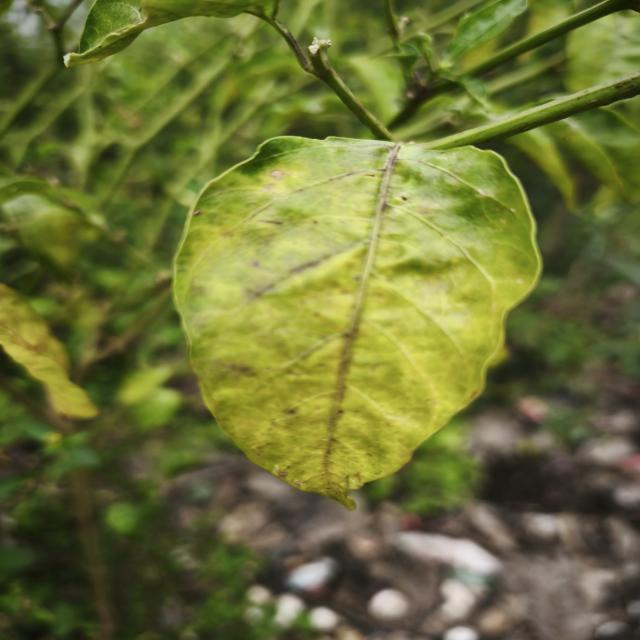Virus Kuning: (171, 134, 544, 511)
